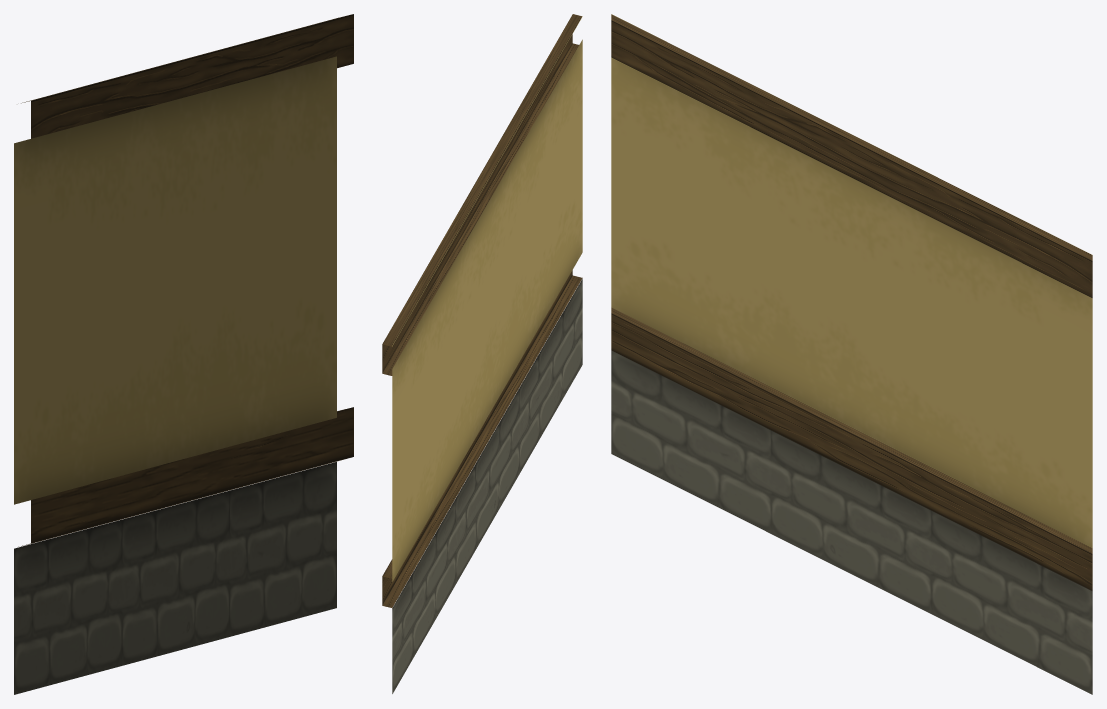
Rendered from sciana_03.fbx.
3 views of the same model, side by side, from view 1: azimuth 30°, elevation 25°; view 2: azimuth 150°, elevation 25°; view 3: azimuth 270°, elevation 25° (orthographic). The views are drawn at different scales.
Parts seen in each view (by area): view 1: Plane; view 2: Plane; view 3: Plane.
Part boxes in pixels (x1,y1,x2,y2): Plane: (14, 14, 353, 694); Plane: (382, 14, 582, 693); Plane: (611, 14, 1092, 694).
Bounding box in the file's own units: 27.11 × 1405 × 901.
